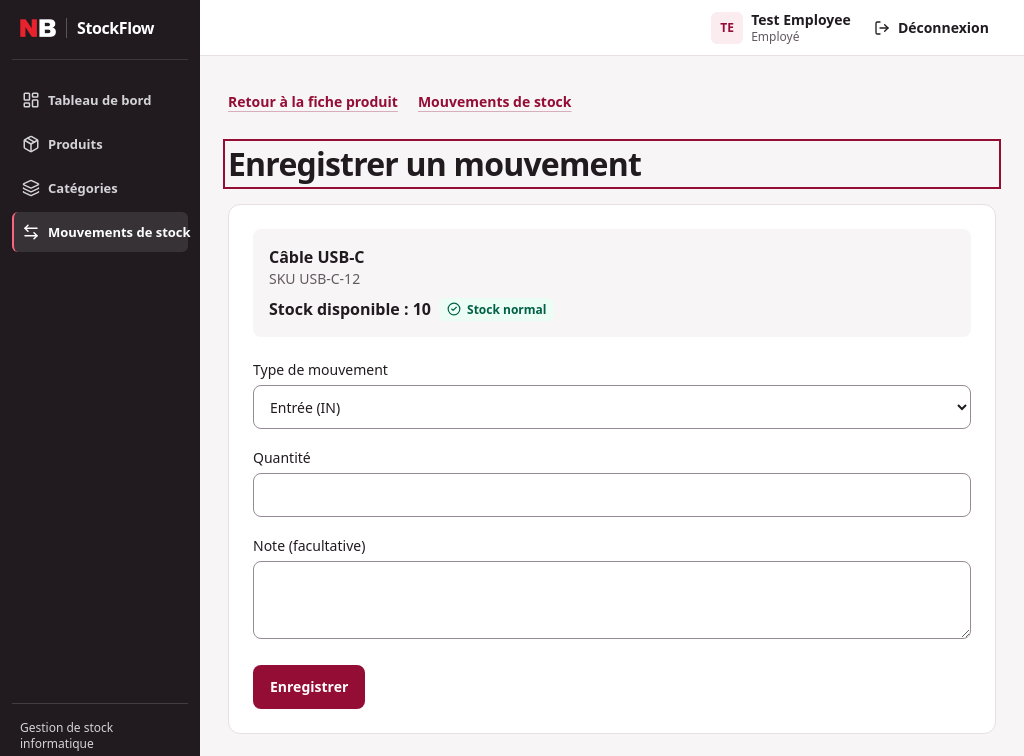
Test: displays the API quantity error when concurrent stock changes invalidate a withdrawal
The width and height of the screenshot is (1024, 756).
Type "5" into the field labelled "Quantité".
click(612, 495); type("5")  # box [253,473,971,517]
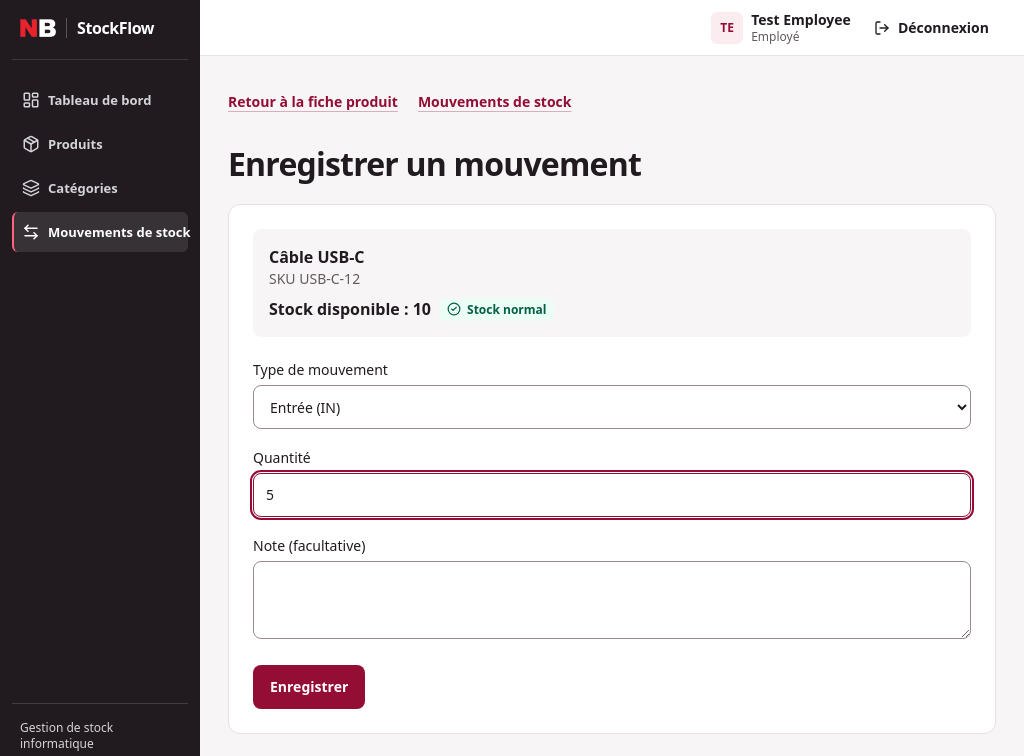
Select "Sortie (OUT)" in the dropdown labelled "Type de mouvement" at (612, 407), box [253,385,971,429]
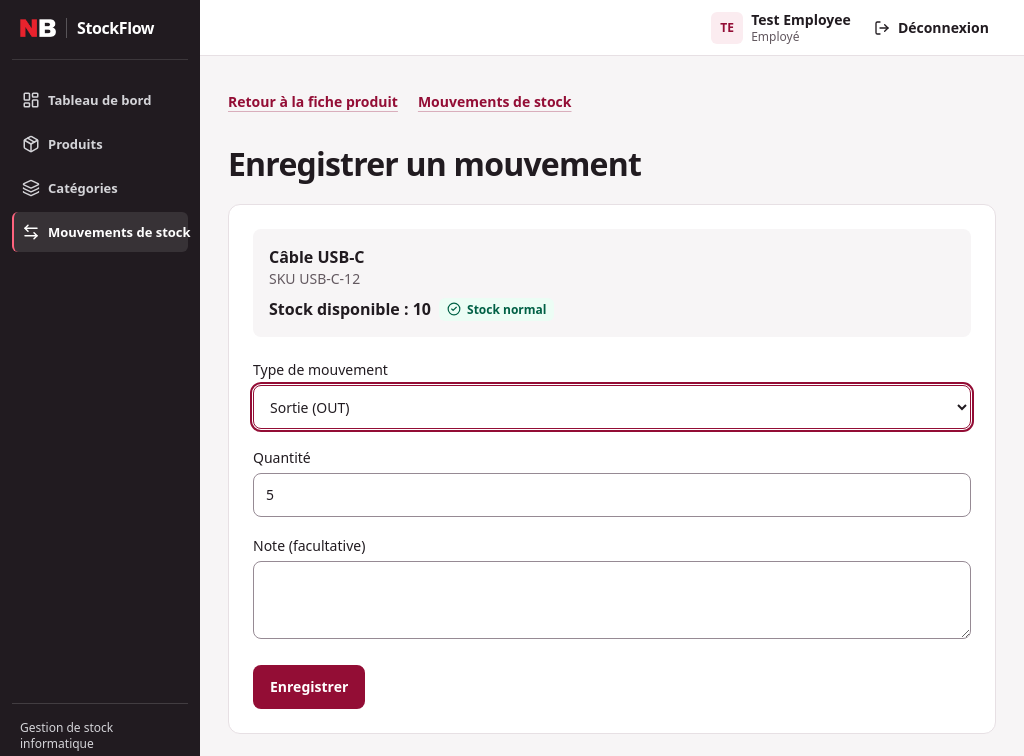
Click the button "Enregistrer".
click(309, 687)  # box [253,665,365,709]
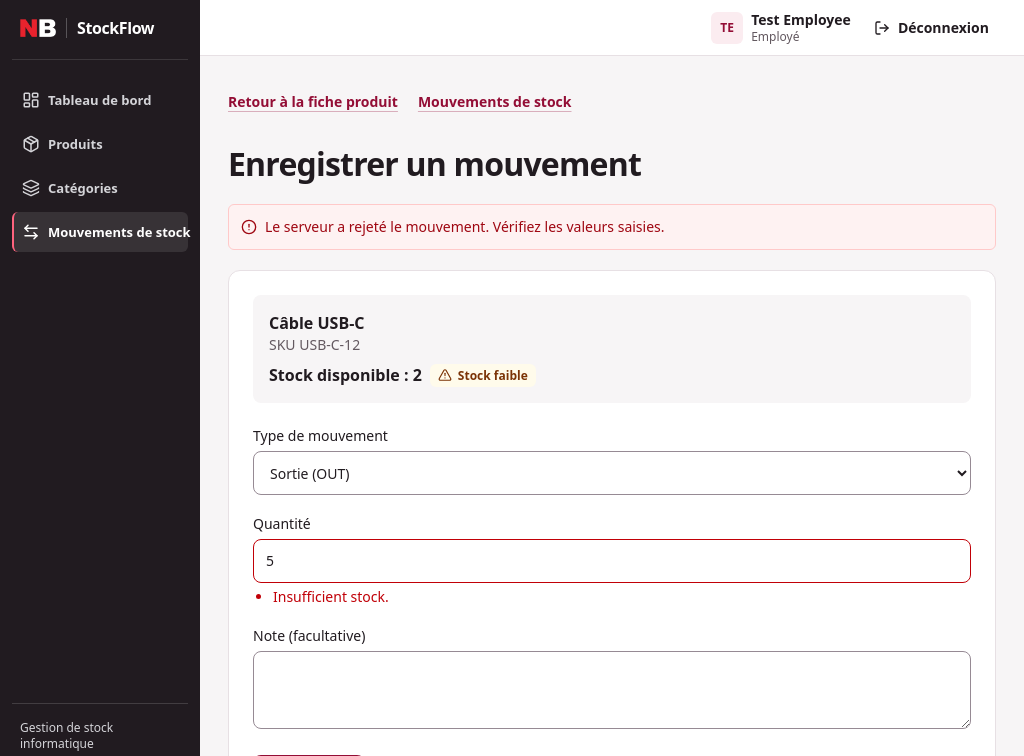
Expected: the list item "Insufficient stock." is shown, [273,587,389,606]
Expected: the text "Stock disponible : 2" is shown, [269,363,422,387]
